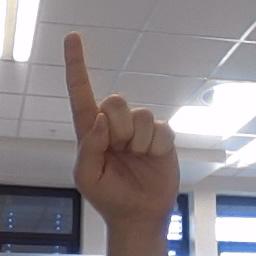F: (61, 29, 182, 216)
